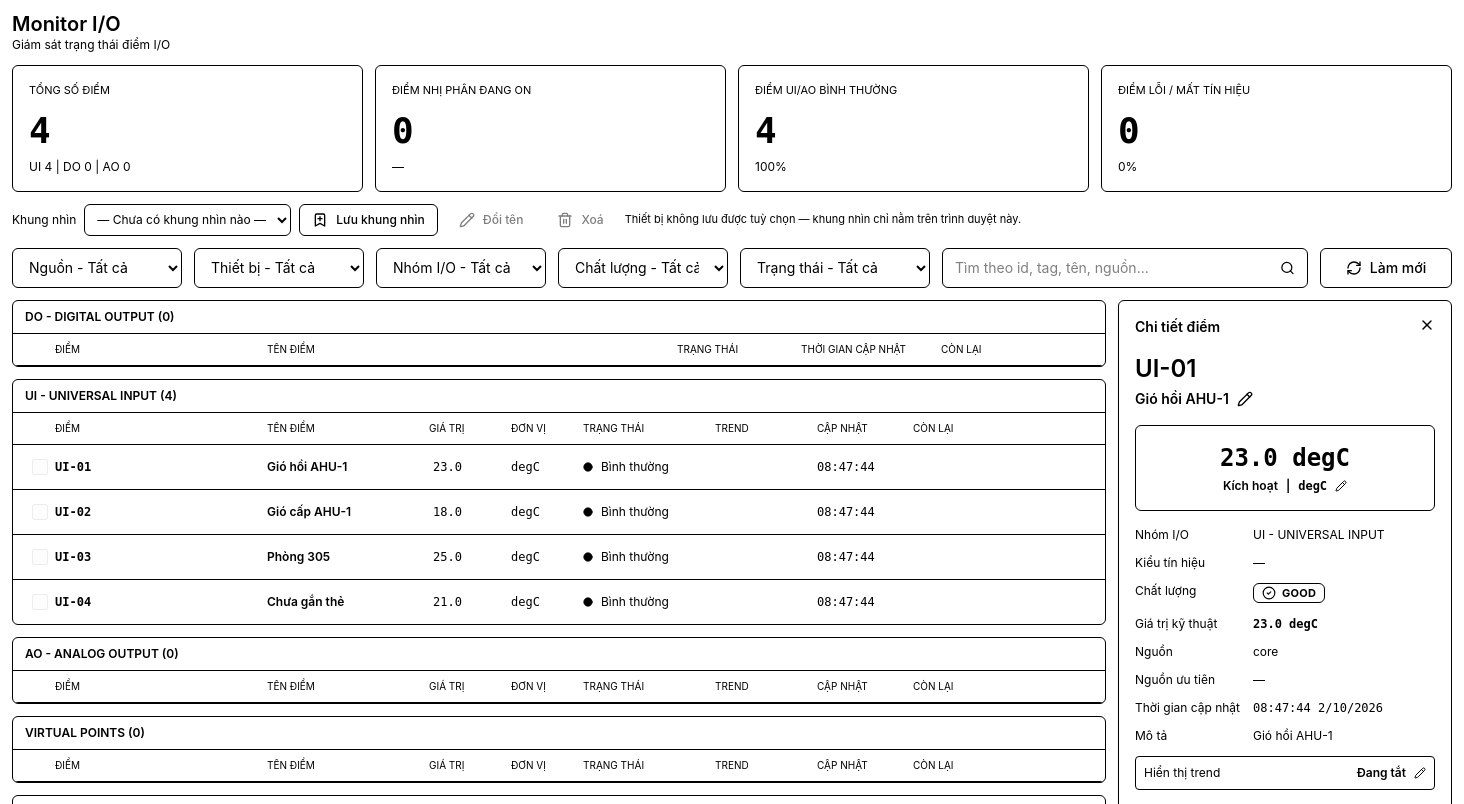
T57-3.1 / T57-4.1 — nhóm điểm theo thiết bị công nghệ › "Chưa gán" là một nhóm xem được, không phải trạng thái lỗi
The image size is (1464, 804).
Step 1. Select "Chưa gán (1)" in the dropdown named "Lọc theo thiết bị công nghệ" → (279, 268), box [194,248,364,288]
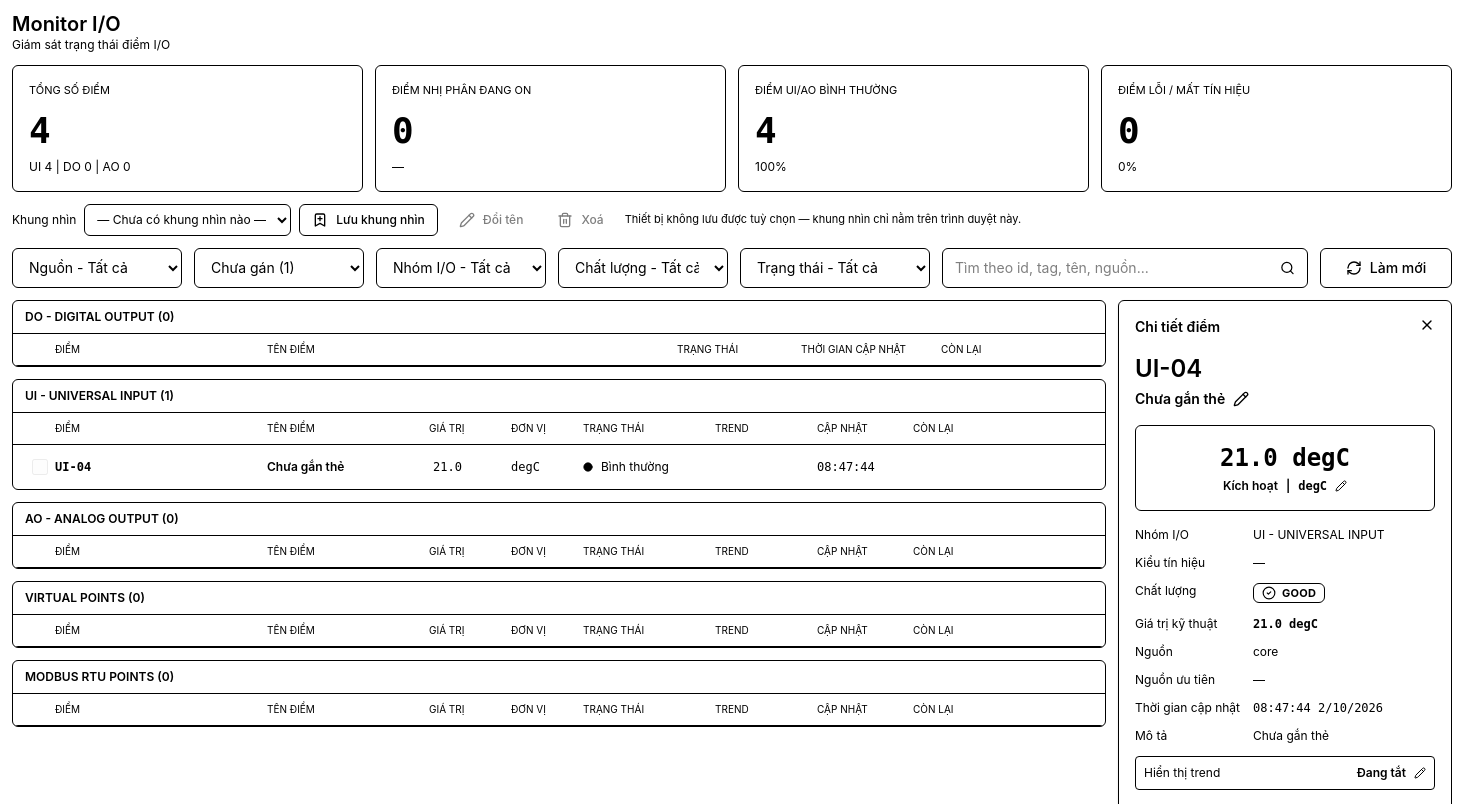
Expected: the text "Chưa gắn thẻ" below "UI - UNIVERSAL INPUT (1)" is shown, [267,458,344,474]
Expected: no buttons "Phòng 305" are shown
Expected: no buttons "Gió cấp AHU-1" are shown
